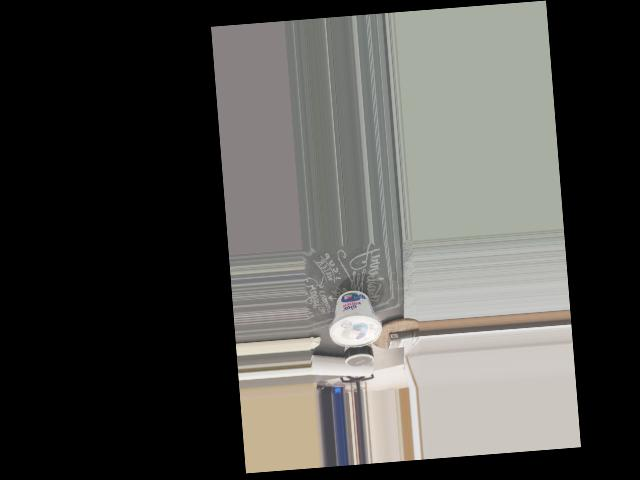cotage: (326, 285, 380, 349)
